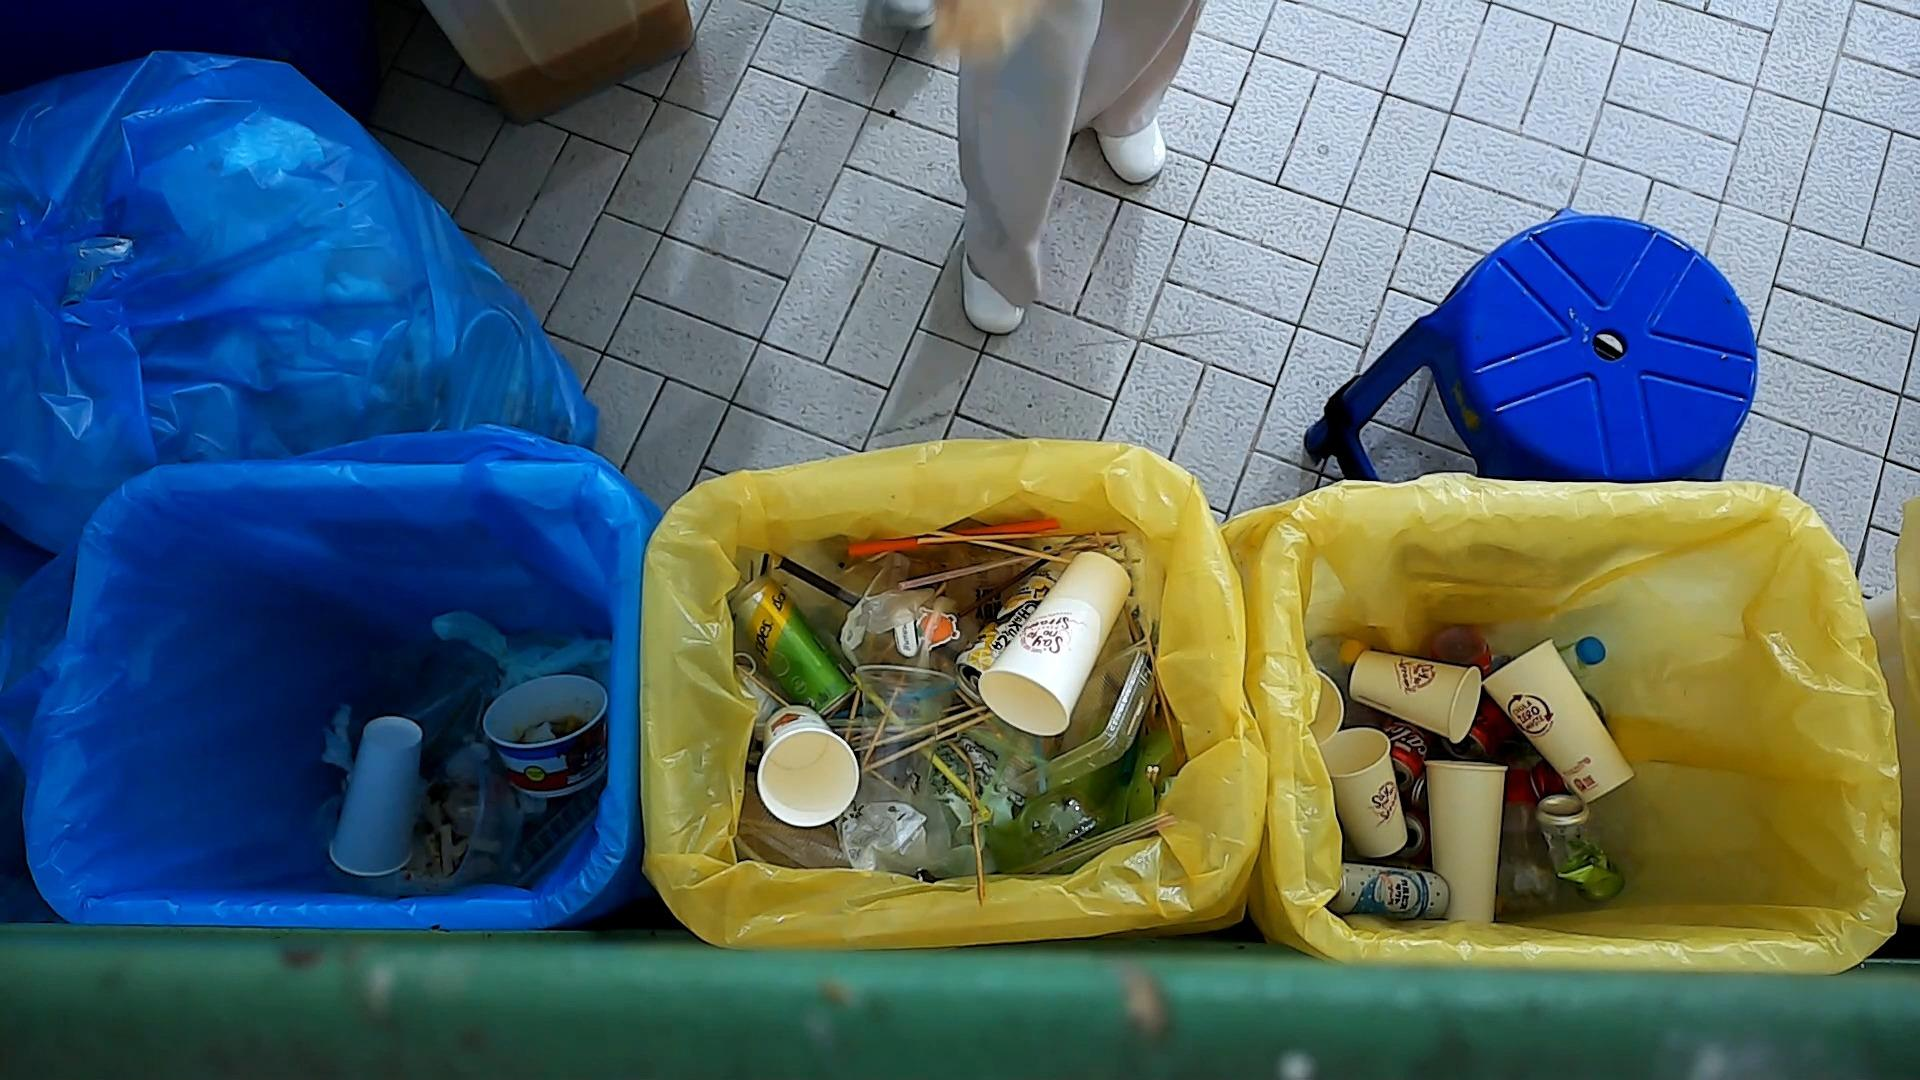can: (727, 572, 864, 723), (953, 556, 1076, 709), (1532, 791, 1630, 909), (1321, 860, 1456, 923)
dirty food container: (405, 737, 531, 895), (479, 671, 611, 804)
food container: (996, 641, 1158, 796)
plastic bag: (839, 778, 978, 885)
plastic cup: (848, 662, 960, 810), (836, 560, 972, 680)
sticks: (858, 708, 1002, 777), (852, 704, 993, 754), (923, 525, 1072, 567), (1135, 615, 1178, 752), (915, 525, 1131, 547), (963, 746, 988, 909)
straw: (851, 674, 993, 824), (895, 551, 1035, 593), (778, 553, 862, 608)
tissue paper: (320, 702, 356, 774)
zero waste cup: (976, 551, 1133, 741), (1477, 634, 1639, 810), (326, 712, 425, 878), (1423, 757, 1510, 924), (753, 703, 864, 831), (1345, 646, 1484, 746), (1320, 727, 1414, 860)
